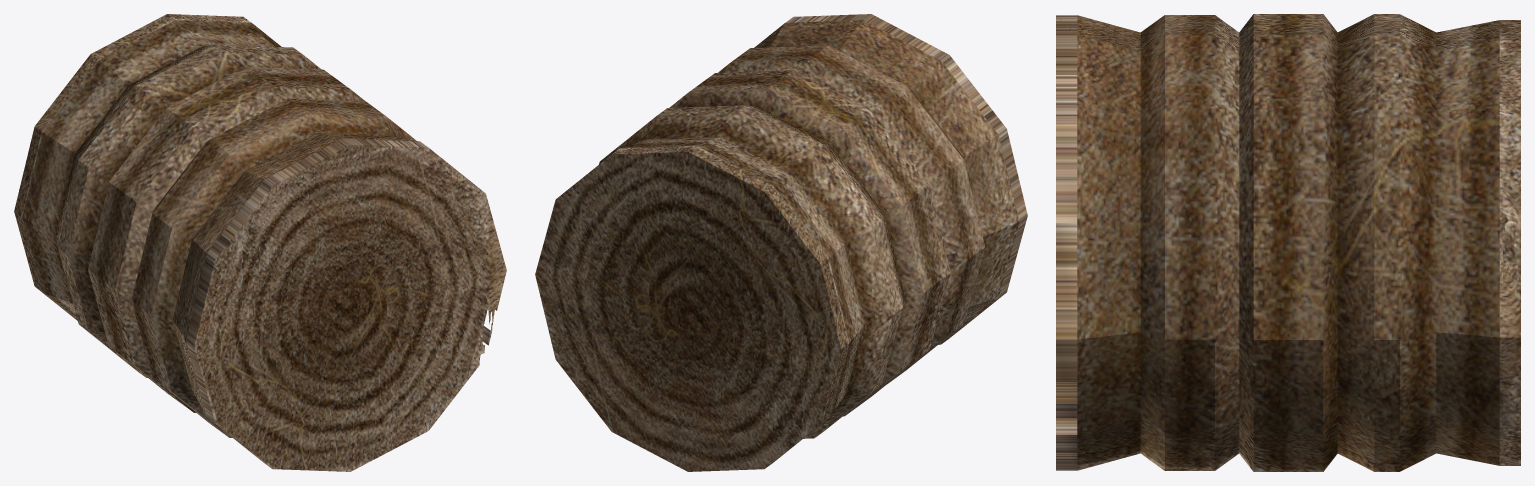
File: BUNDLE.fbx
3 renders of one model, left to right at view 1: azimuth 30°, elevation 25°; view 2: azimuth 150°, elevation 25°; view 3: azimuth 270°, elevation 25°, orthographic. The views are drawn at different scales.
Parts seen in each view (by area): view 1: BUNDLE; view 2: BUNDLE; view 3: BUNDLE.
Boxes of the visible parts, left/top/right/bottom form: BUNDLE: left=14, top=14, right=506, bottom=471; BUNDLE: left=535, top=14, right=1027, bottom=471; BUNDLE: left=1056, top=14, right=1520, bottom=471.
Size of the model in its own units: 70.36 by 70.36 by 71.12.
Materials: 1 (1 with a texture image).
